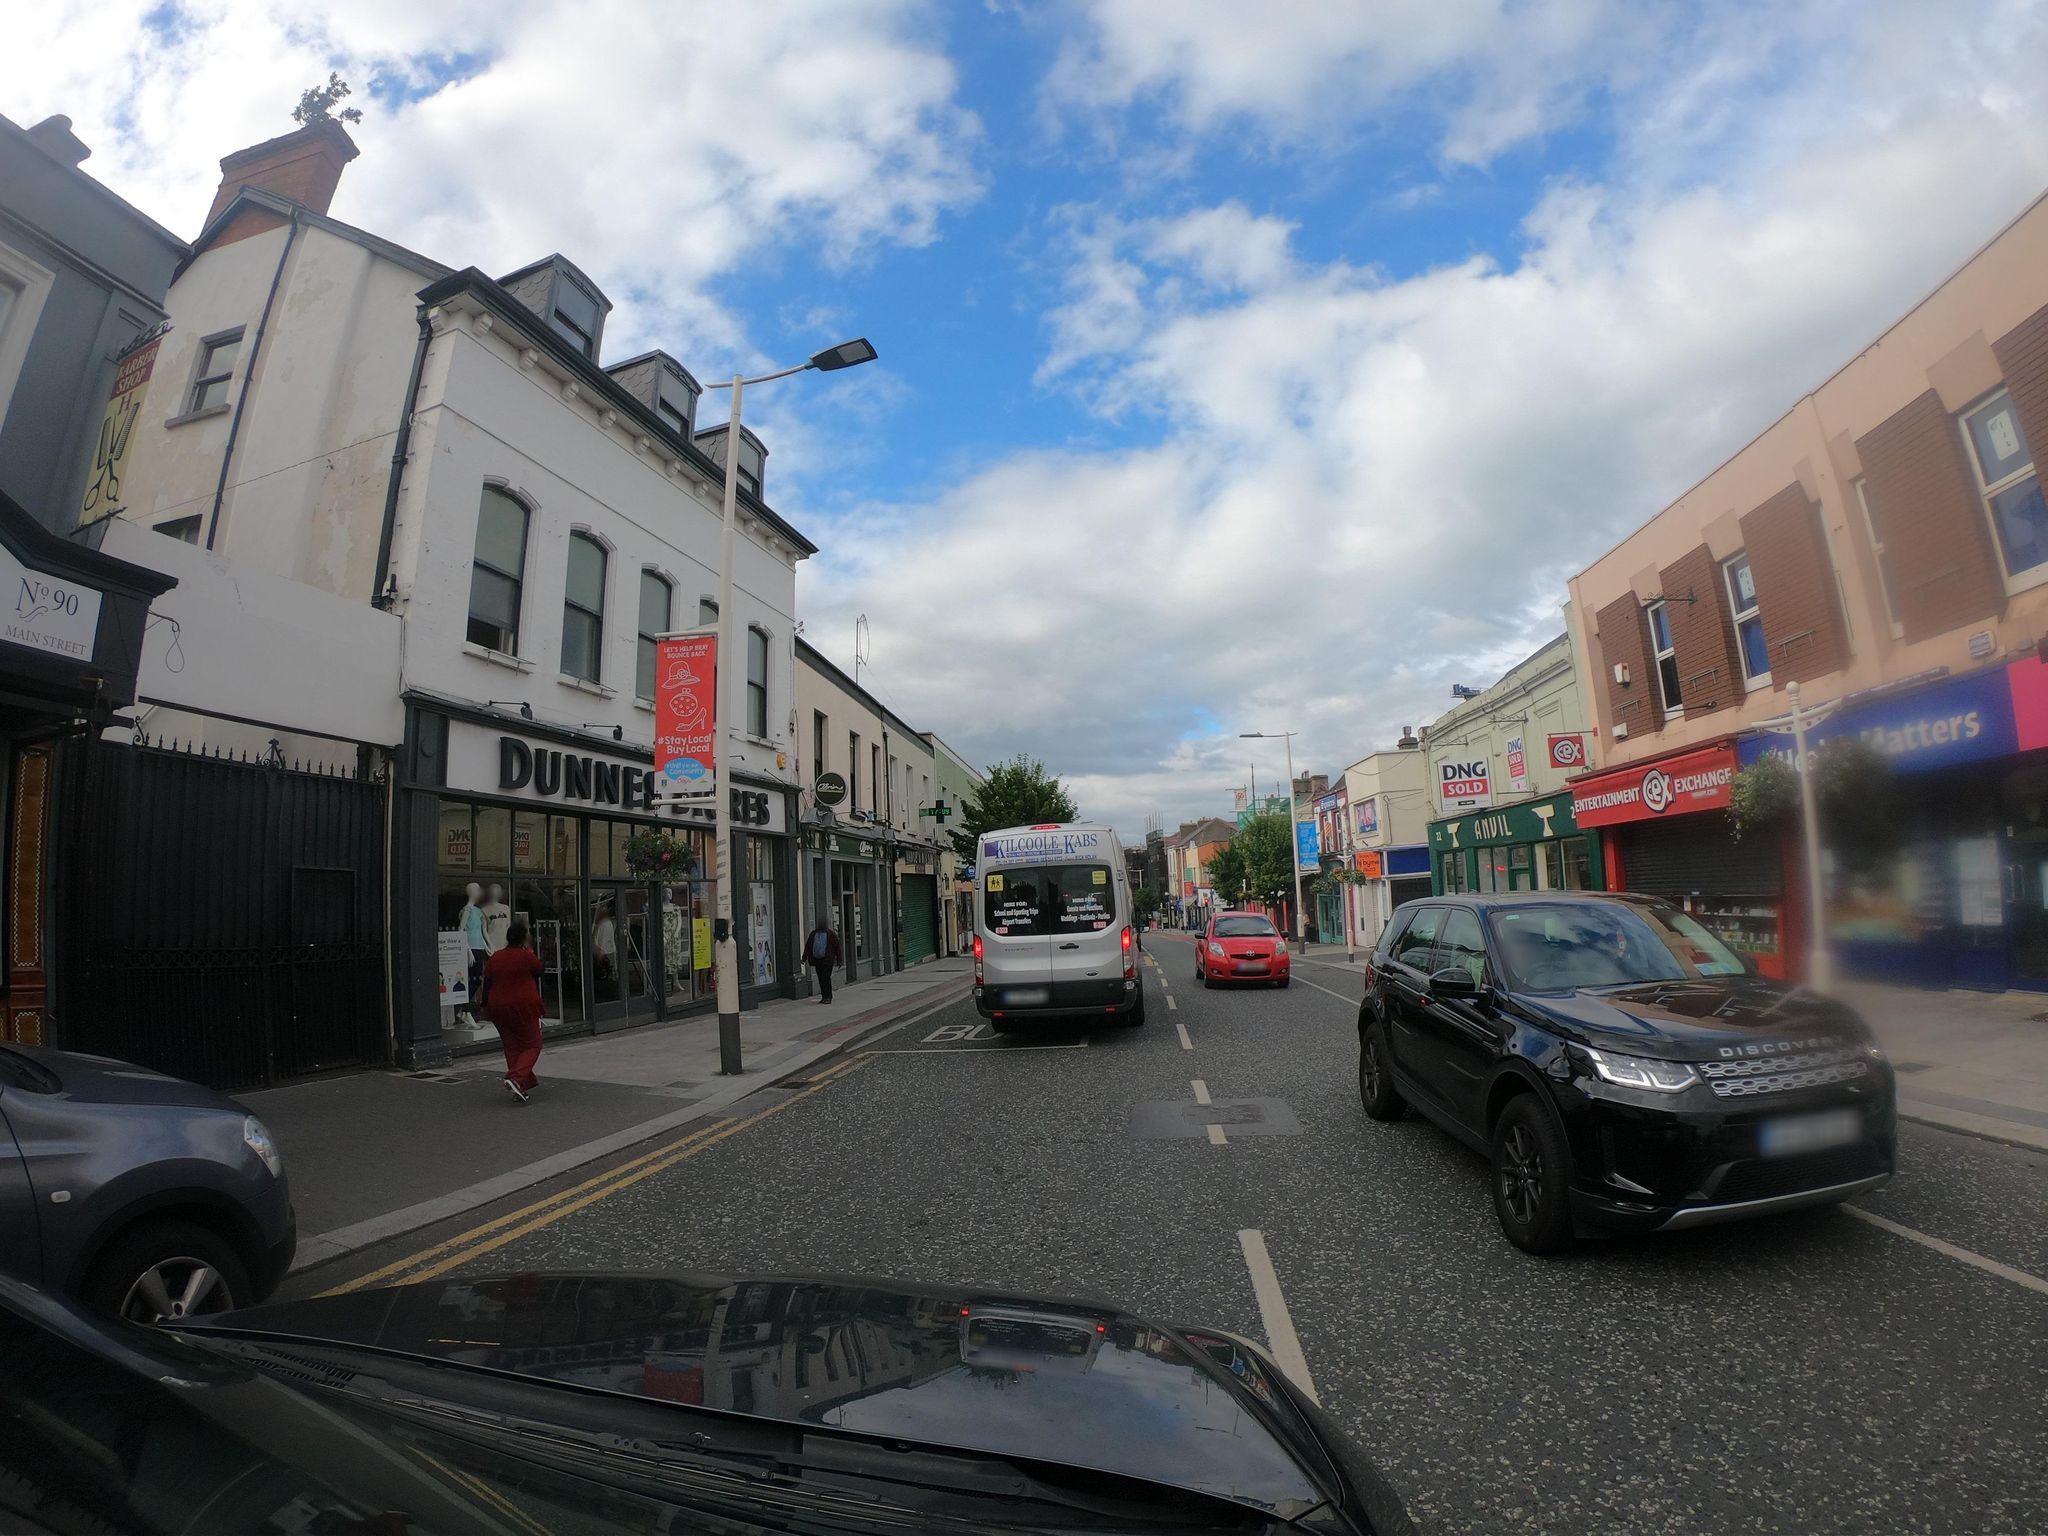property sign: (1421, 744, 1521, 818)
